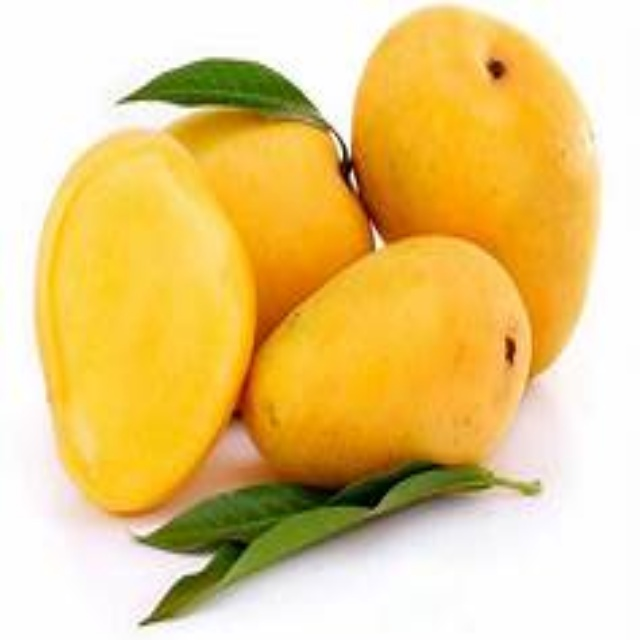mango: (346, 9, 605, 373), (39, 120, 267, 519), (257, 235, 532, 489), (164, 96, 374, 312)
